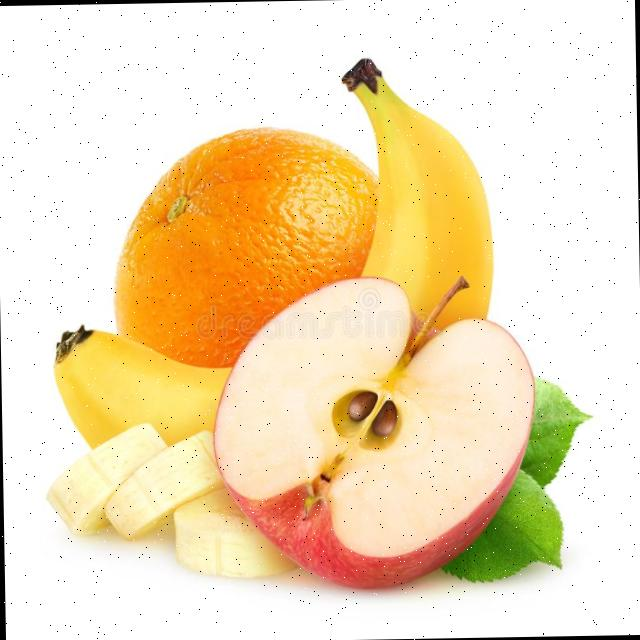Apel: (209, 270, 538, 591)
Jeruk: (108, 124, 382, 370)
Pisang: (340, 54, 494, 333), (43, 419, 299, 581), (51, 320, 233, 451), (43, 421, 168, 537), (102, 429, 226, 541), (172, 485, 298, 579)
